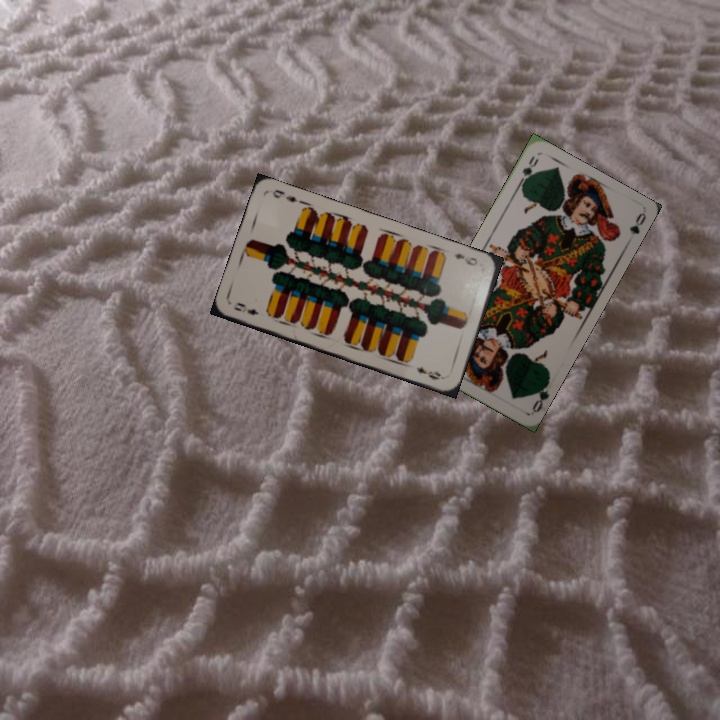E9: (230, 298, 262, 318), (451, 249, 480, 268)
GO: (514, 152, 541, 191), (528, 376, 552, 415)
